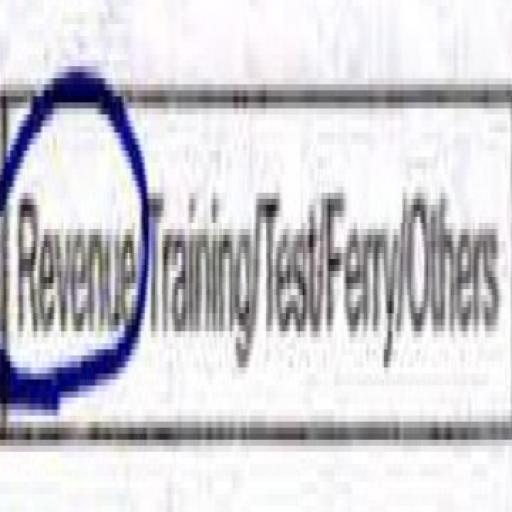check: (0, 0, 145, 476)
